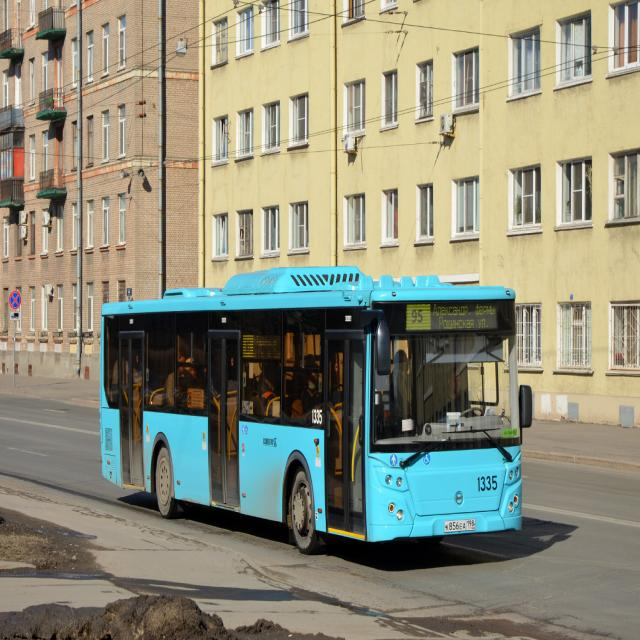number-of-bus: (409, 305, 430, 328)
